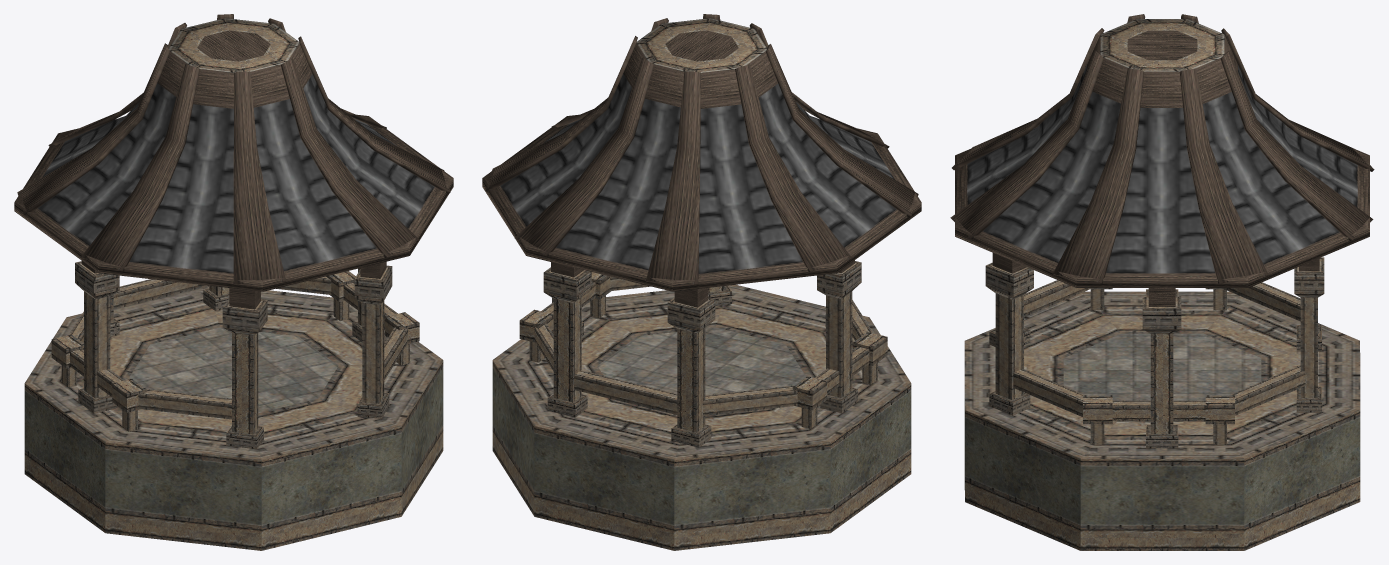
File: kioskijp3.fbx
3 views of the same model, side by side, from view 1: azimuth 30°, elevation 25°; view 2: azimuth 150°, elevation 25°; view 3: azimuth 270°, elevation 25° (orthographic).
Visible parts, largest first — view 1: Cube.005; view 2: Cube.005; view 3: Cube.005.
Boxes of the visible parts, <box> form: Cube.005: <box>14,14,453,550</box>; Cube.005: <box>482,14,921,550</box>; Cube.005: <box>950,14,1374,550</box>.
Size of the model in its own units: 5.23 by 5.79 by 5.23.
